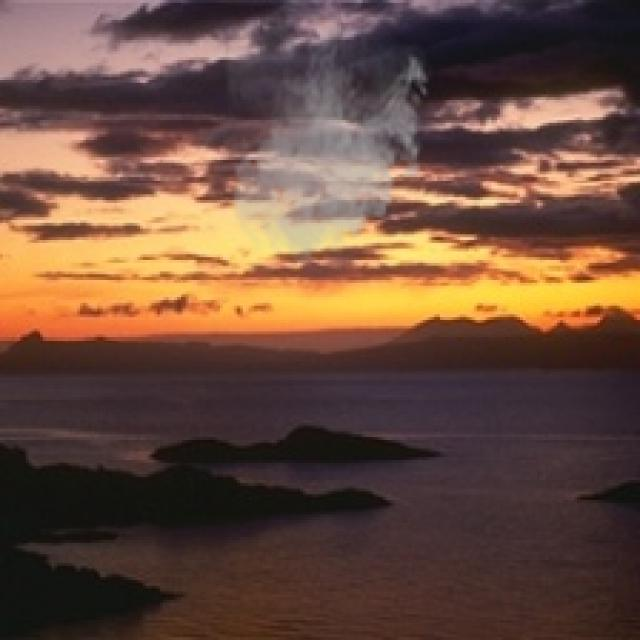smoke: (226, 26, 434, 271)
